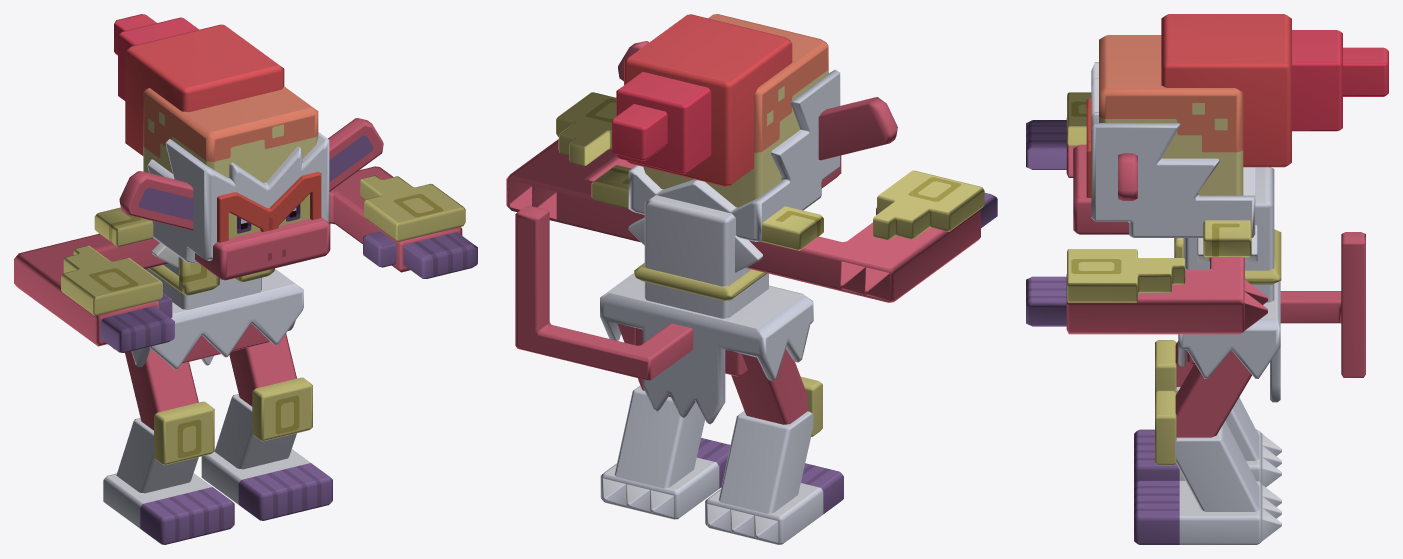
The picture shows the model from 3 angles, left to right: view 1: azimuth 30°, elevation 25°; view 2: azimuth 150°, elevation 25°; view 3: azimuth 270°, elevation 25°; orthographic projection. The views are drawn at different scales.
Visible parts, largest first — view 1: model; view 2: model; view 3: model.
Boxes of the visible parts, <box> form: model: <box>14,14,477,544</box>; model: <box>506,14,997,544</box>; model: <box>1026,14,1388,544</box>.
Size of the model in its own units: 3.32 by 3.73 by 2.65.
